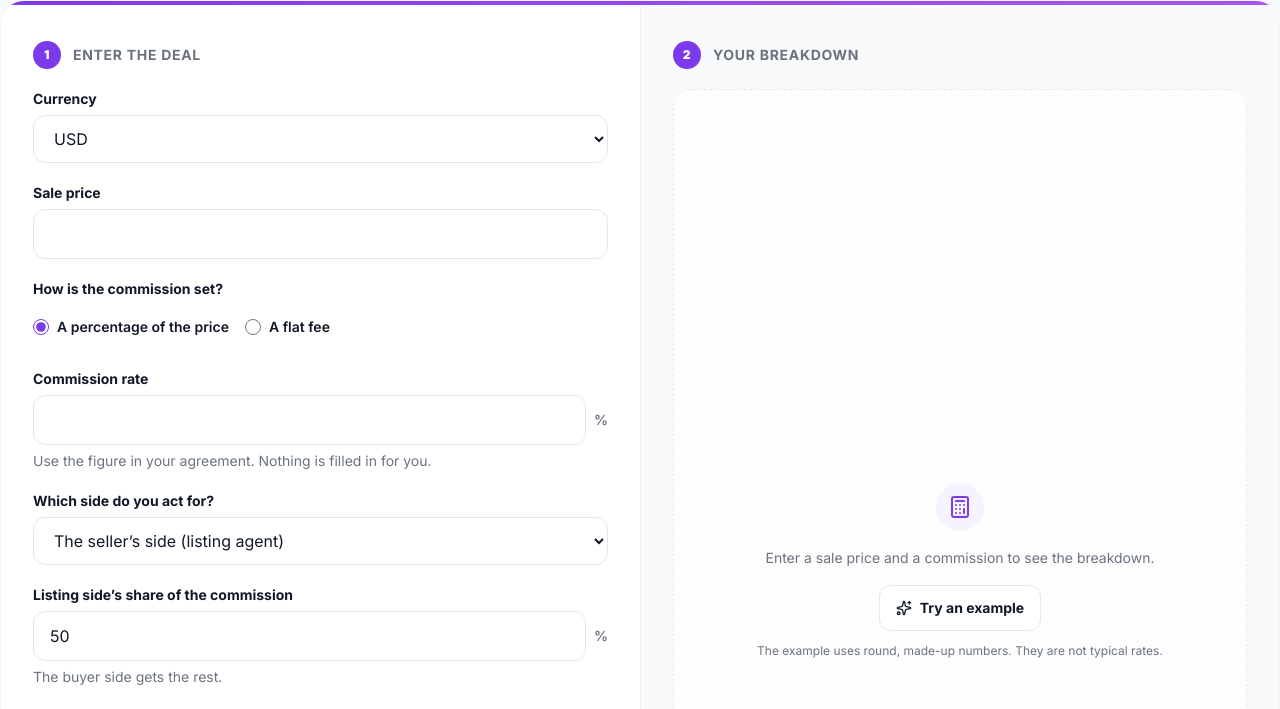
it: CommissionCalculator › hides the side share when one agent acts for both sides
Select "Both sides (one agent for buyer and seller)" in the dropdown labelled "Which side do you act for?". click: point(320, 541)
box: top-left (33, 517), bottom-right (608, 565)
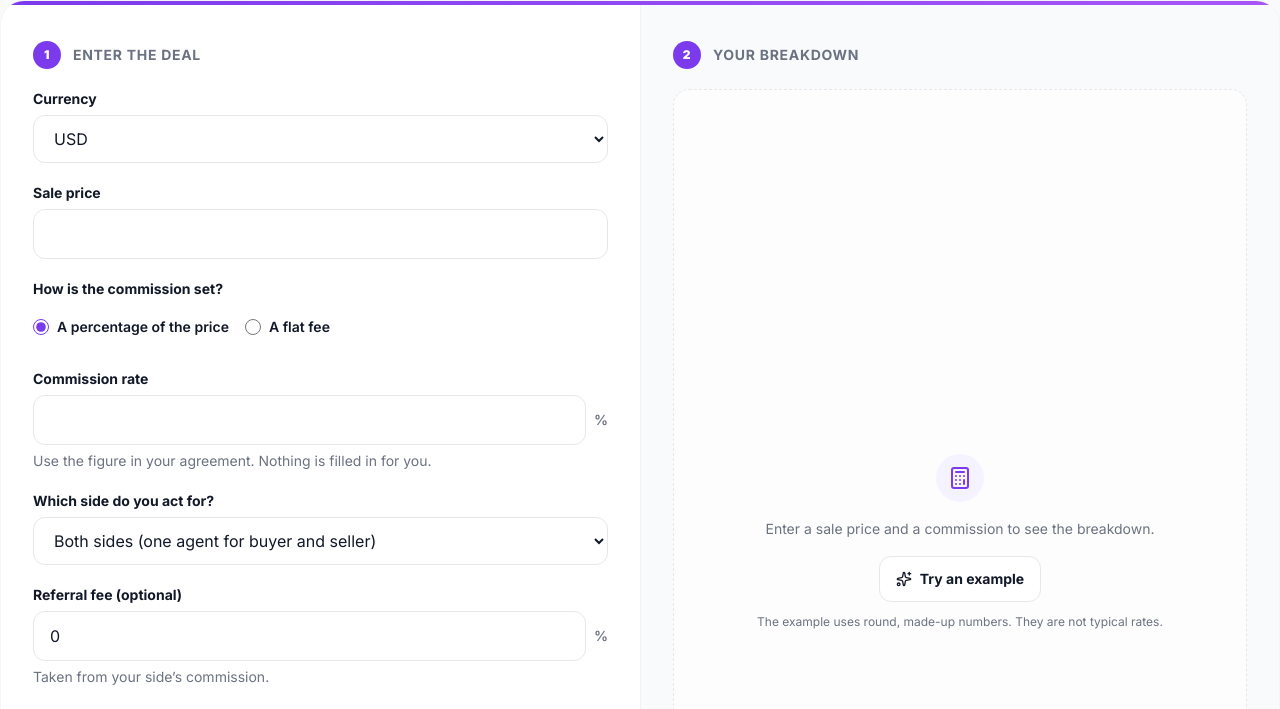
Result: the label labelled "Listing side’s share of the commission" is gone
